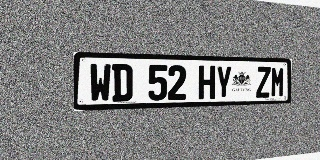2: (168, 65, 186, 100)
5: (148, 65, 167, 101)
D: (112, 64, 133, 102)
H: (198, 65, 215, 99)
M: (271, 67, 285, 97)
W: (89, 63, 111, 102)
Y: (216, 66, 232, 99)
Z: (256, 66, 271, 98)
